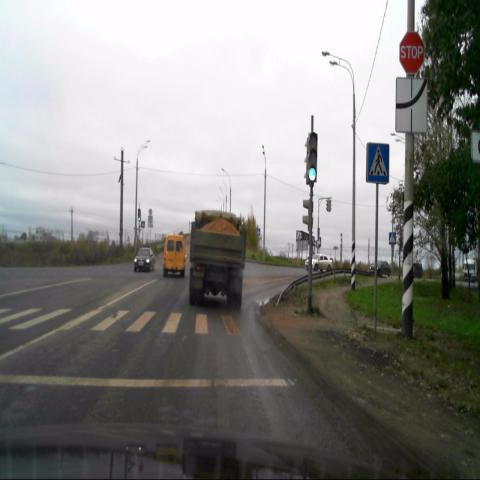2_5: (399, 31, 424, 73)
